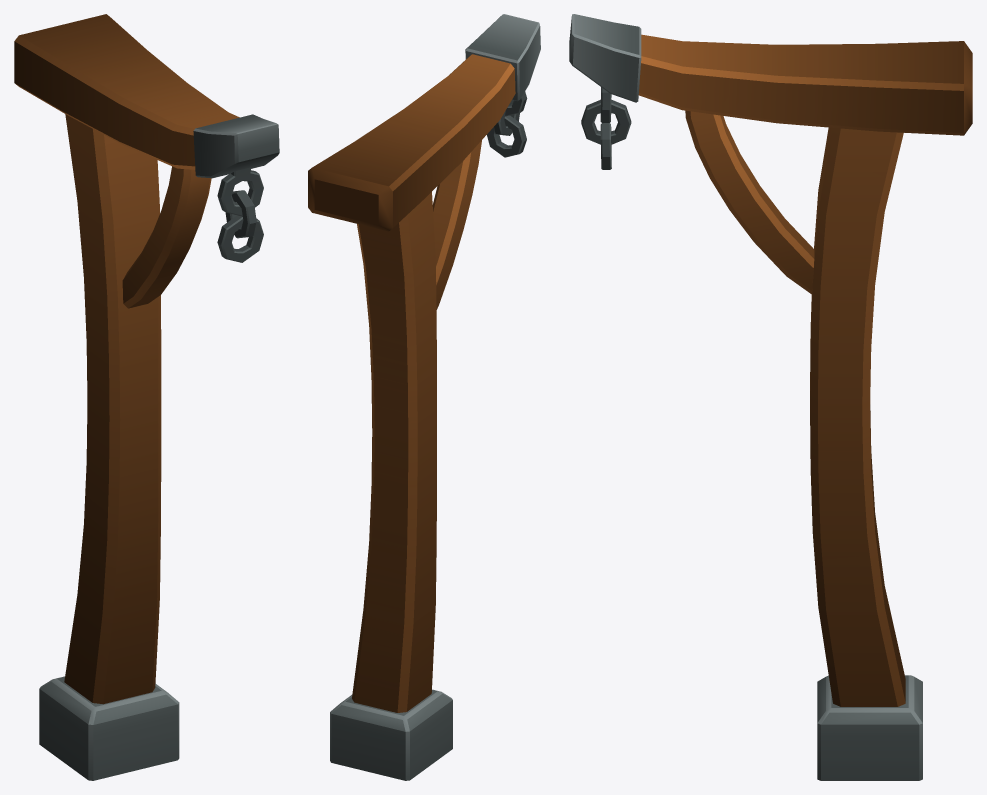
File: Poste-2.fbx
3 views of the same model, side by side, from view 1: azimuth 30°, elevation 25°; view 2: azimuth 150°, elevation 25°; view 3: azimuth 270°, elevation 25° (orthographic). The views are drawn at different scales.
Visible parts, largest first — view 1: Poste-2; view 2: Poste-2; view 3: Poste-2.
Boxes of the visible parts, box(x1,y1,x2,y2) form: Poste-2: box(14, 14, 279, 780); Poste-2: box(308, 14, 540, 780); Poste-2: box(569, 14, 972, 780).
Bounding box in the file's own units: 59.21 × 428 × 213.
